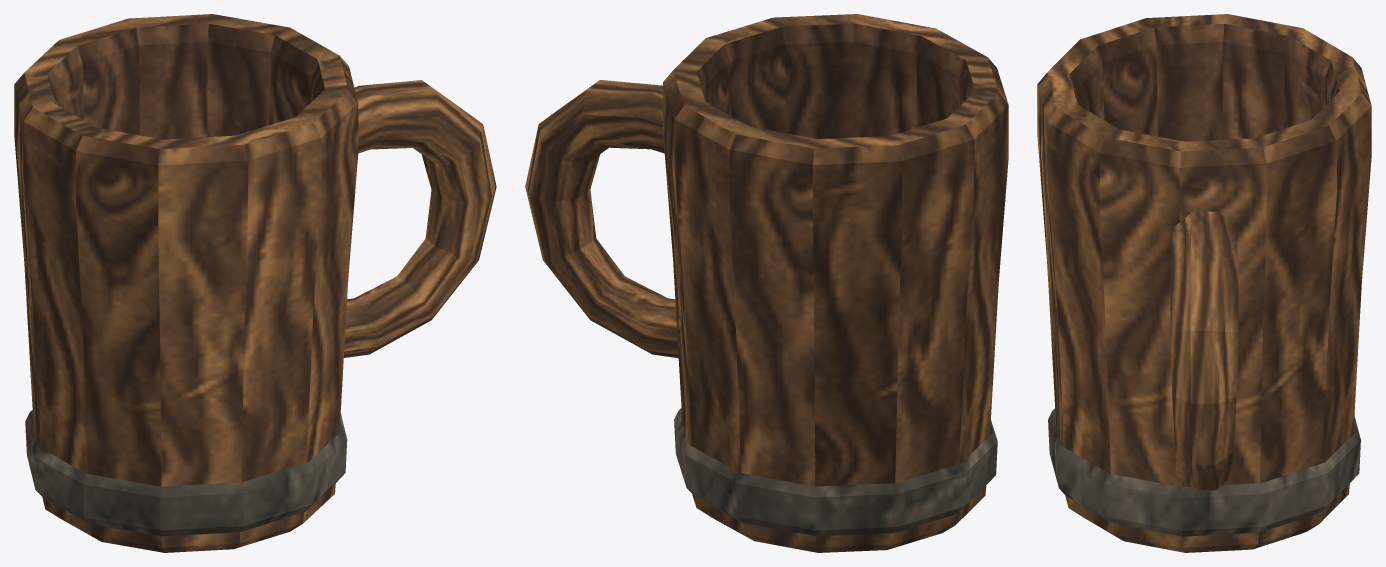
Rendered from Caneca.glb.
The picture shows the model from 3 angles, left to right: view 1: azimuth 30°, elevation 25°; view 2: azimuth 150°, elevation 25°; view 3: azimuth 270°, elevation 25°; orthographic projection.
Visible parts, largest first — view 1: Aduelas, Interior, Alça, Aro inferior, Borda; view 2: Aduelas, Interior, Alça, Aro inferior, Borda; view 3: Aduelas, Interior, Alça, Aro inferior, Borda.
Boxes of the visible parts, <box> form: Aduelas: <box>14,56,358,552</box>; Interior: <box>47,23,324,139</box>; Alça: <box>344,80,496,357</box>; Aro inferior: <box>25,410,347,536</box>; Borda: <box>24,14,347,149</box>; Aduelas: <box>663,58,1008,552</box>; Interior: <box>696,23,975,138</box>; Alça: <box>525,80,678,358</box>; Aro inferior: <box>674,408,997,536</box>; Borda: <box>673,14,998,148</box>; Aduelas: <box>1037,58,1371,552</box>; Interior: <box>1069,24,1339,141</box>; Alça: <box>1170,211,1238,490</box>; Aro inferior: <box>1048,408,1360,536</box>; Borda: <box>1047,14,1361,151</box>.
Size of the model in its own units: 0.1553 by 0.136 by 0.0995.
Materials: 3 (3 with a texture image).
